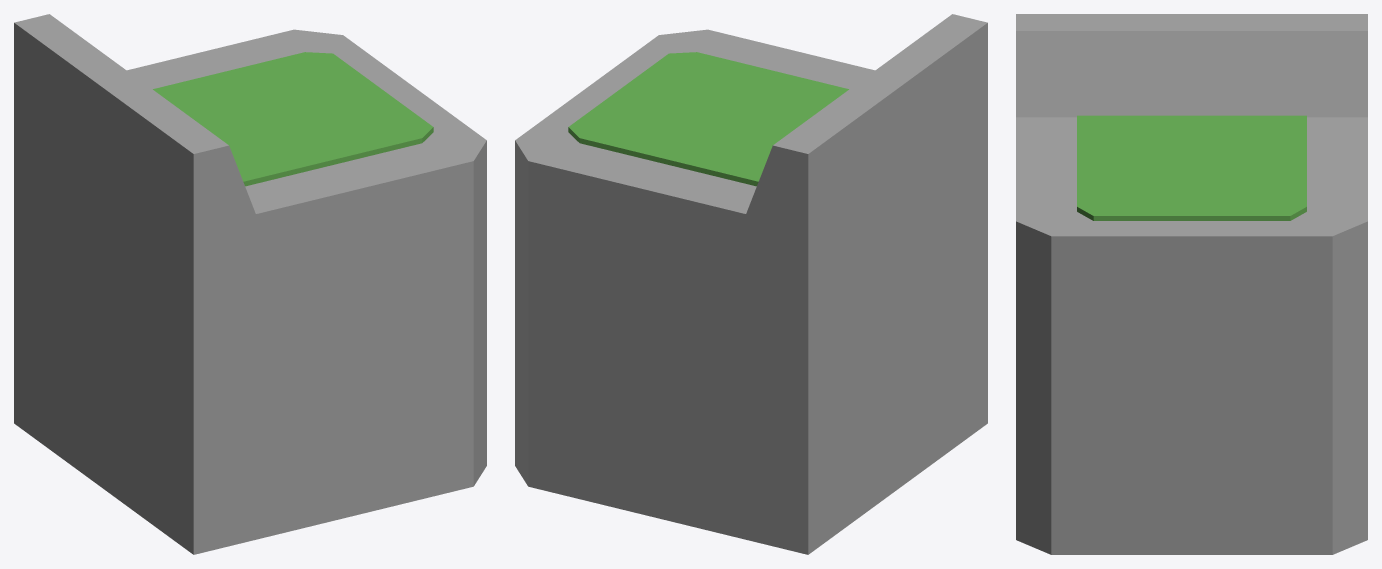
Rendered from washer.fbx.
3 views of the same model, side by side, from view 1: azimuth 30°, elevation 25°; view 2: azimuth 150°, elevation 25°; view 3: azimuth 270°, elevation 25° (orthographic). The views are drawn at different scales.
Visible parts, largest first — view 1: polySurface11, polySurface12; view 2: polySurface11, polySurface12; view 3: polySurface11, polySurface12.
Part boxes in pixels (x1,y1,x2,y2): polySurface11: (14,14,486,554); polySurface12: (153,52,433,186); polySurface11: (515,14,987,554); polySurface12: (568,52,848,186); polySurface11: (1016,14,1367,554); polySurface12: (1077,115,1306,220).
Bounding box in the file's own units: 106 × 130 × 106.
